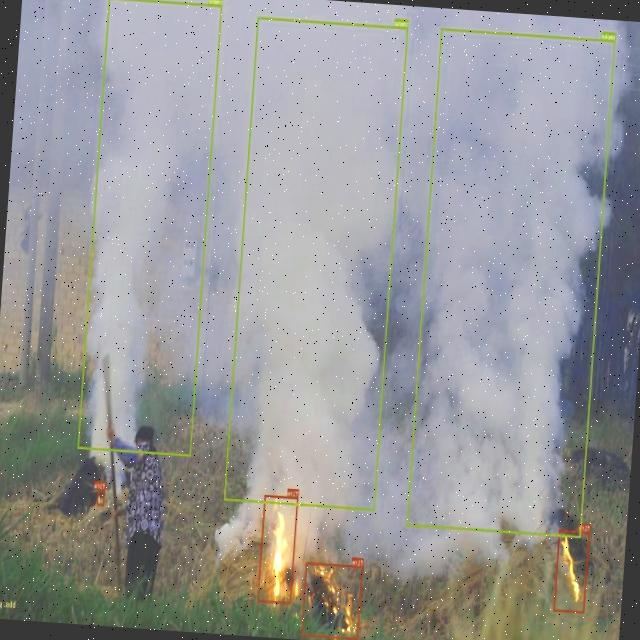fire: (301, 561, 363, 640), (258, 494, 298, 603), (554, 528, 590, 612), (96, 488, 105, 506)
smoke: (407, 27, 615, 537), (224, 16, 408, 510), (77, 0, 222, 456)
